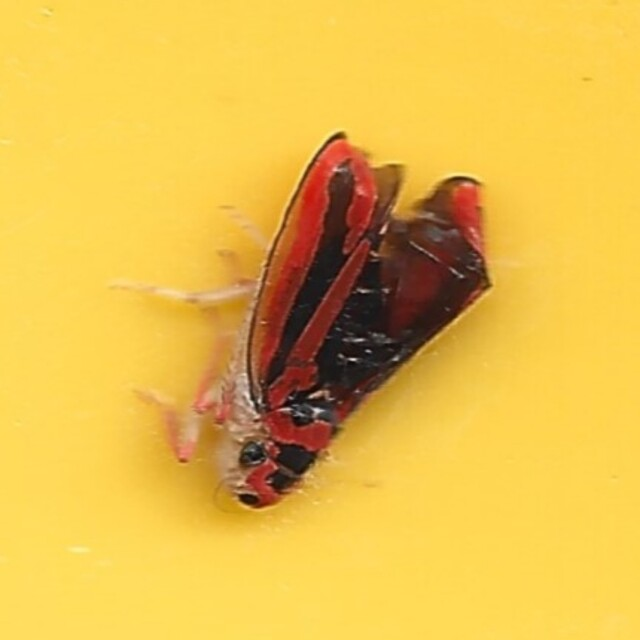Hemiptera: (149, 126, 491, 514)
